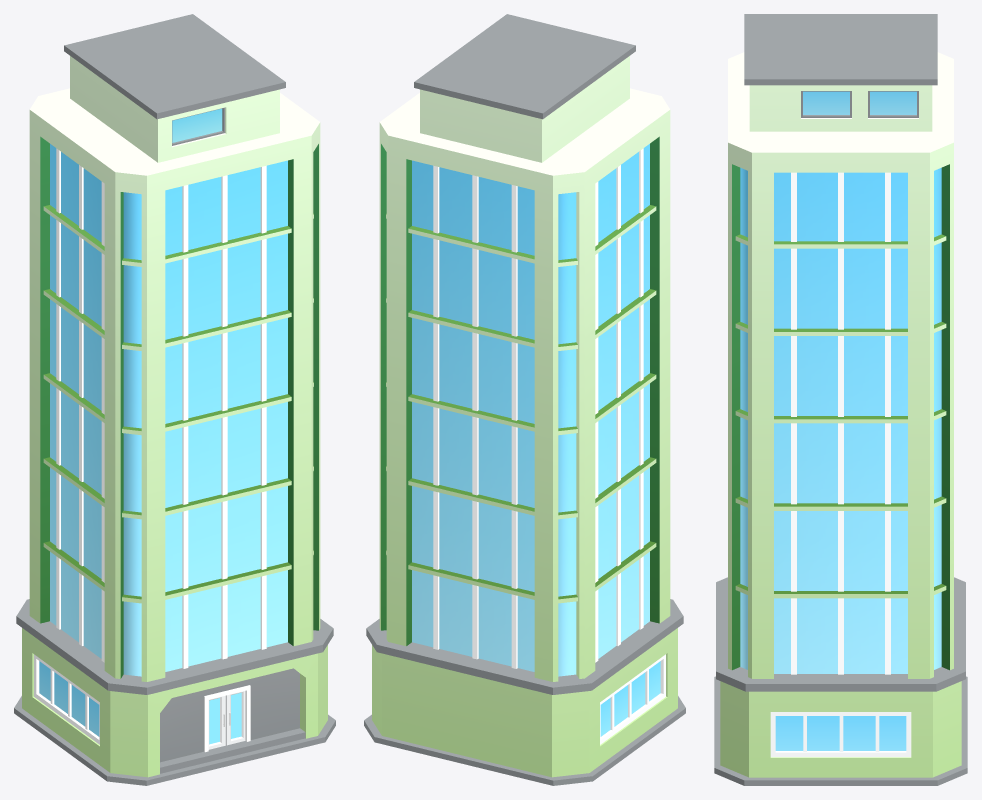
Rendered from Building_Living_49.glb.
3 views of the same model, side by side, from view 1: azimuth 30°, elevation 25°; view 2: azimuth 150°, elevation 25°; view 3: azimuth 270°, elevation 25° (orthographic). The views are drawn at different scales.
Parts seen in each view (by area): view 1: Building_Living_49; view 2: Building_Living_49; view 3: Building_Living_49.
Part boxes in pixels (x1,y1,x2,y2): Building_Living_49: (14, 14, 335, 785); Building_Living_49: (364, 14, 685, 785); Building_Living_49: (714, 14, 967, 785).
Bounding box in the file's own units: 9.99 × 27.36 × 9.23.
2 materials, 2 textured.
